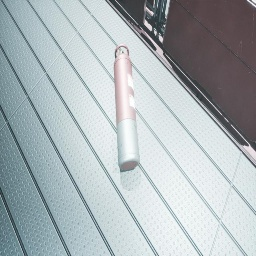NitrogenTank ,: (114, 44, 140, 170)
